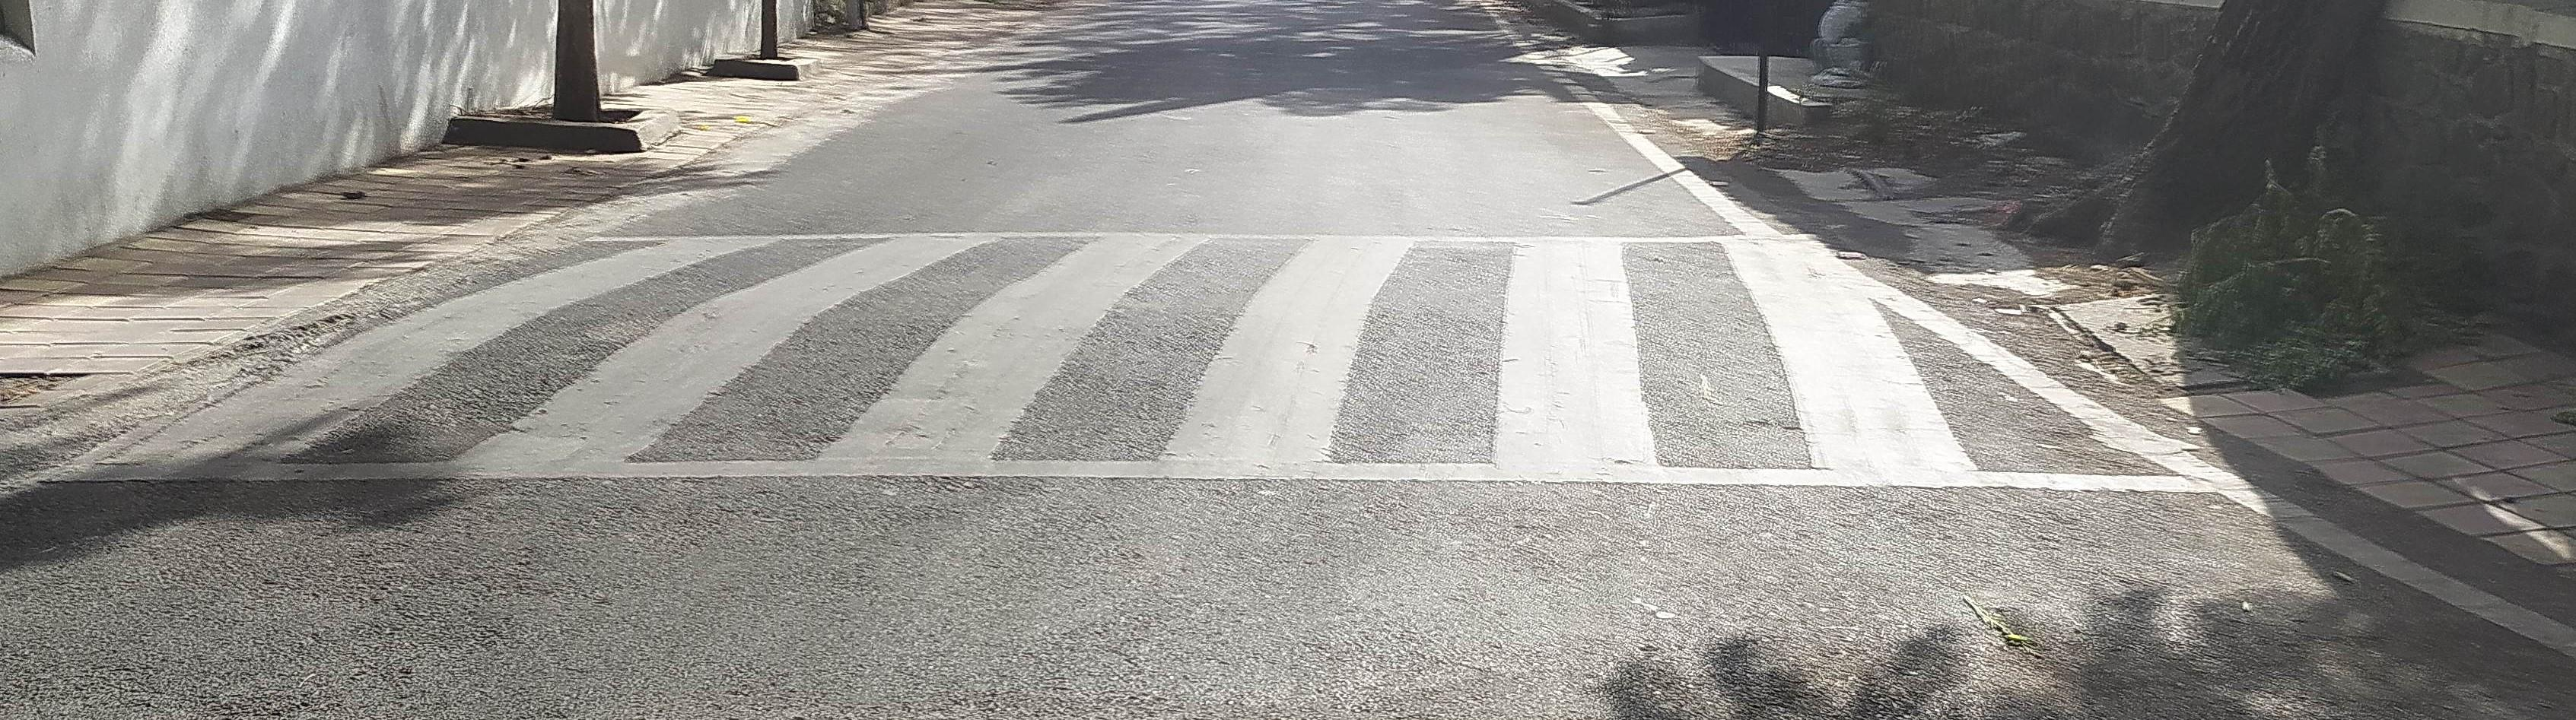speed-bump: (43, 230, 2221, 481)
